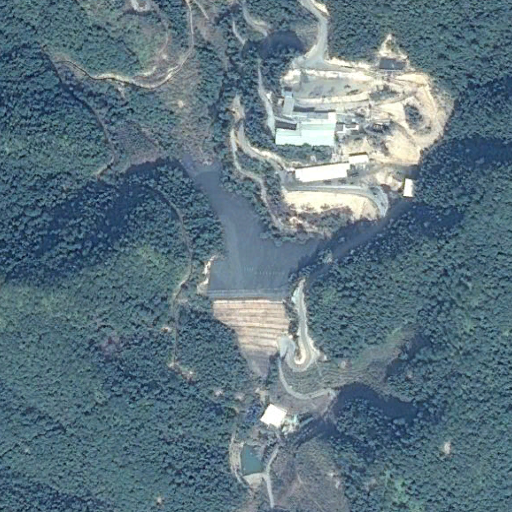tp: (174, 167, 410, 370)
